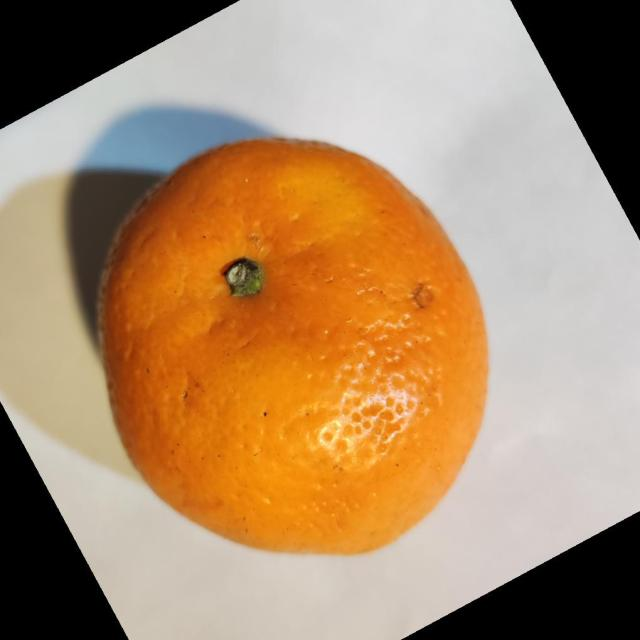fresh orange: (95, 135, 491, 556)
